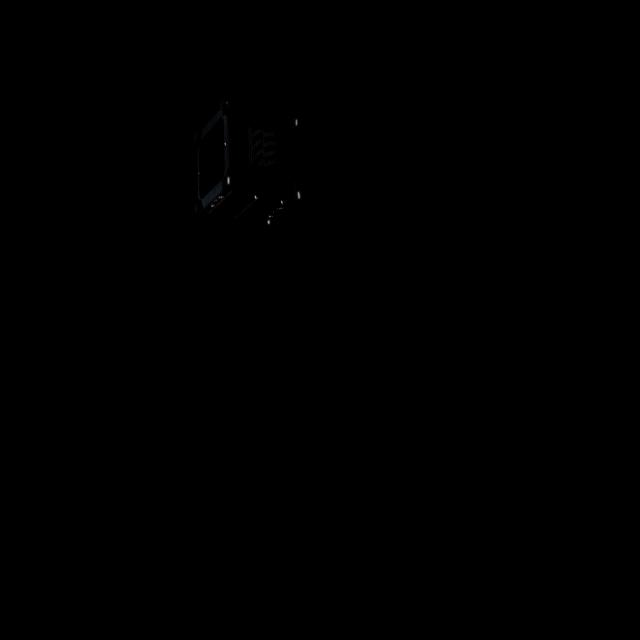satellite: (190, 92, 307, 236)
